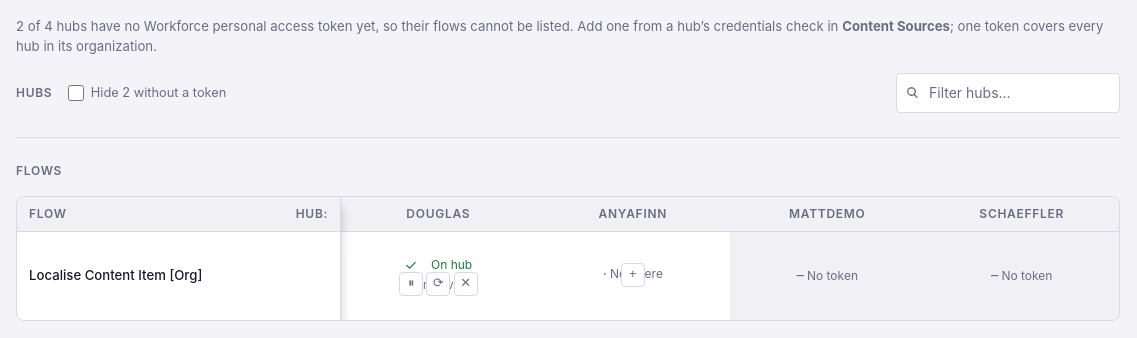
Test: FlowsTab — narrowing the hub axis › hides the hubs with no token on request, and says how many
Expected: the column heading "mattdemo" is shown, [730,197,924,232]
Click the checkbox labelled "Hide 2 without a token" at (76, 93), box [68,85,84,101]
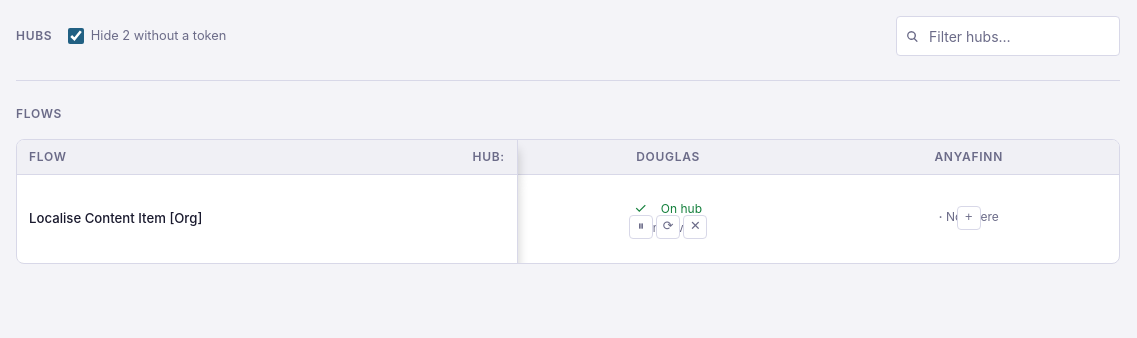
Expected: the column heading "Douglas" is shown, [518,140,818,175]
Expected: the text "mattdemo" is gone
